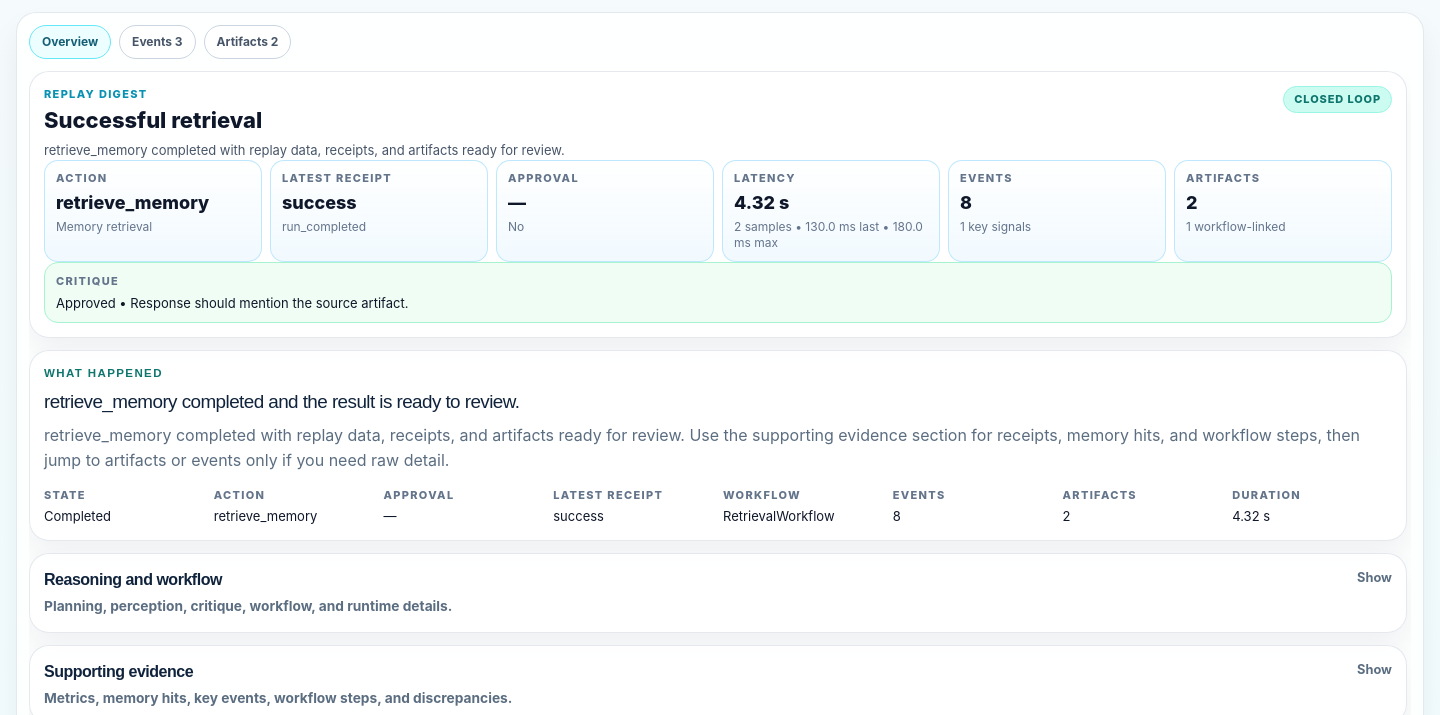
Test: renders replay-backed overview fields and filters the run list
The image size is (1440, 715).
(page scrolled)
expect the text "Replay digest" is shown: met, box x1=44 y1=87 x2=148 y2=101
expect the text "What happened" is shown: met, box x1=44 y1=368 x2=163 y2=380
Click the button "Reasoning and workflow" at (133, 580), box x1=44 y1=568 x2=1392 y2=618
(page scrolled)
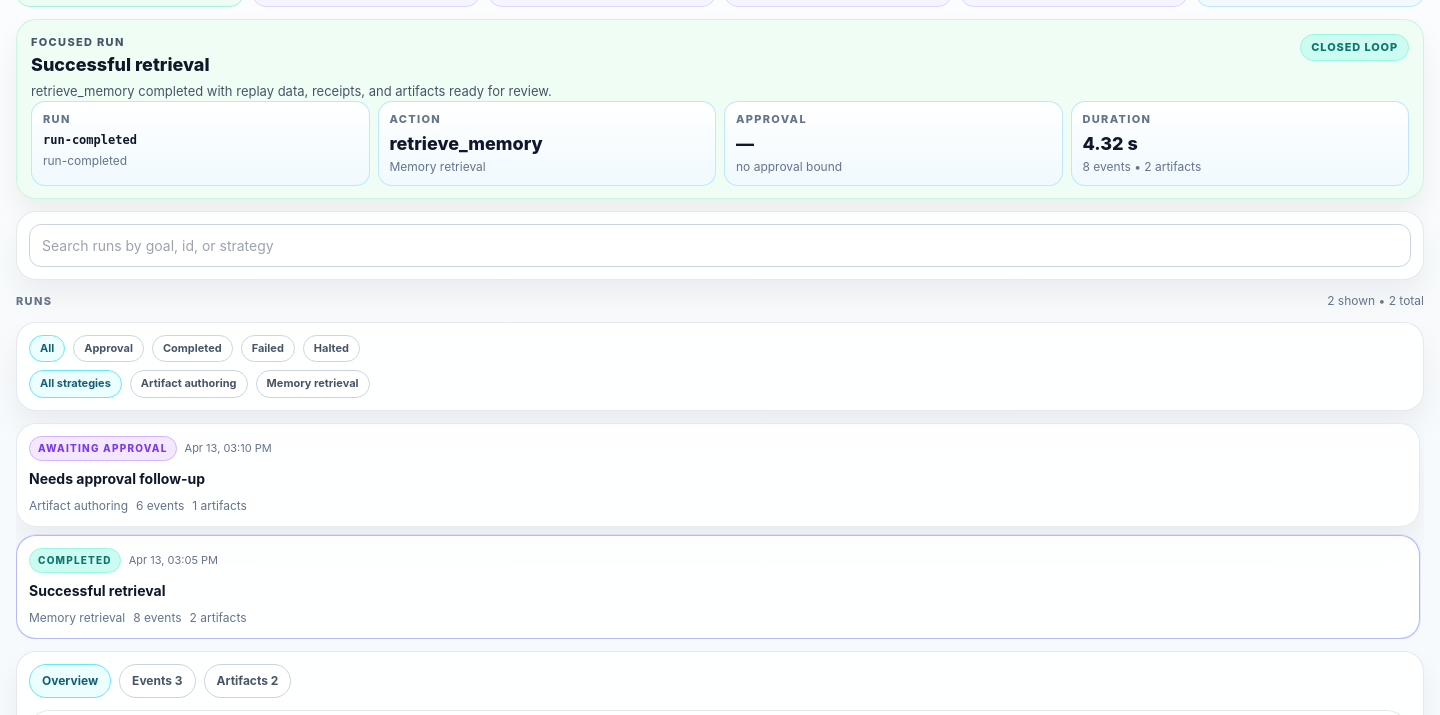
Click the button "Completed" at (192, 349), box x1=152 y1=335 x2=233 y2=362
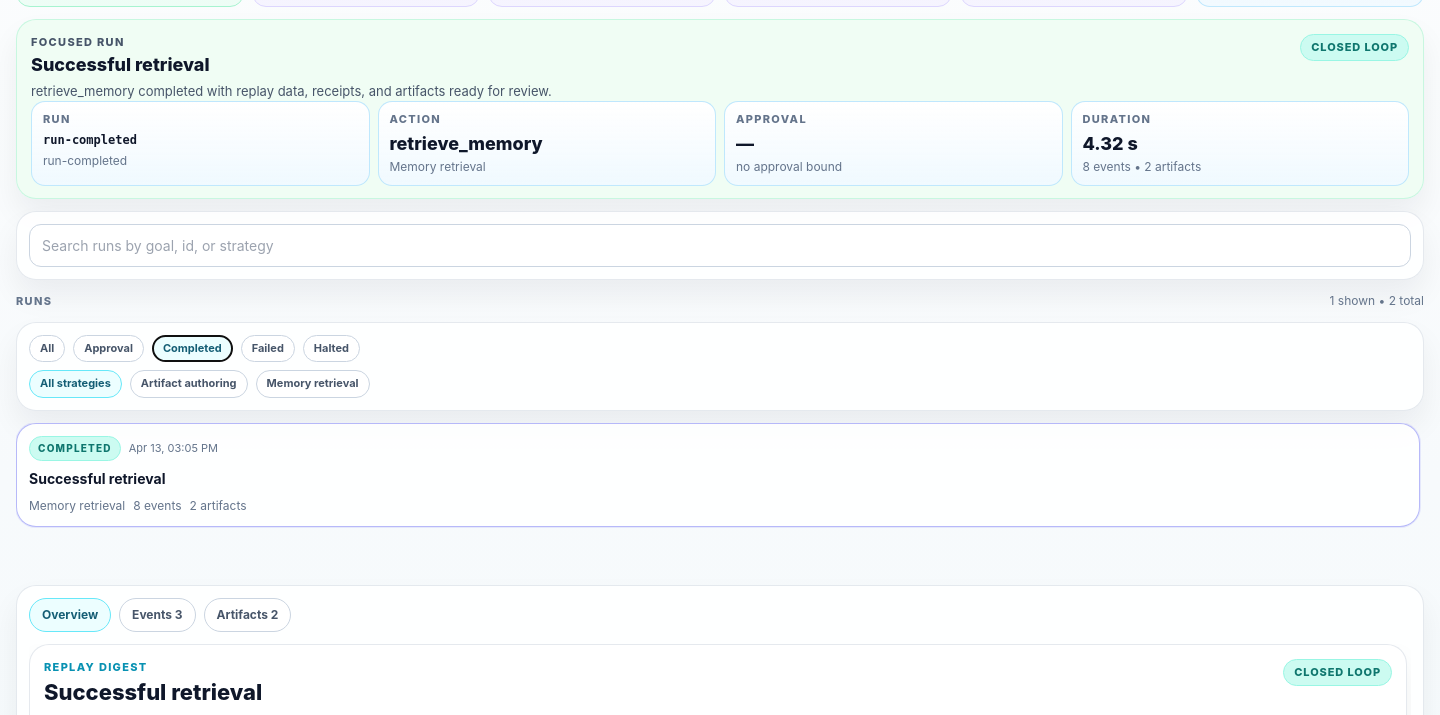
expect the text "Successful retrieval" below "Focused run" is shown: met, box x1=31 y1=54 x2=210 y2=75
expect the button "Needs approval follow-up" is gone: met
